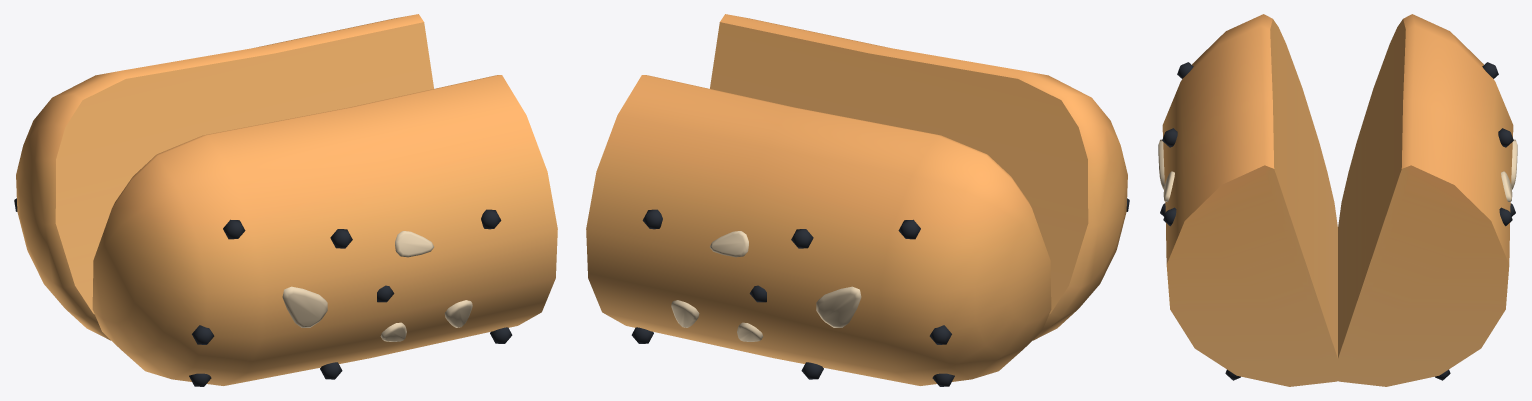
The model's file is HotDog_bun_with_seeds_half.fbx.
The picture shows the model from 3 angles, left to right: view 1: azimuth 30°, elevation 25°; view 2: azimuth 150°, elevation 25°; view 3: azimuth 270°, elevation 25°; orthographic projection. The views are drawn at different scales.
Parts seen in each view (by area): view 1: HotDog_bun_with_seeds_half; view 2: HotDog_bun_with_seeds_half; view 3: HotDog_bun_with_seeds_half.
Boxes of the visible parts, x1=… form: HotDog_bun_with_seeds_half: x1=14, y1=14, x2=557, y2=386; HotDog_bun_with_seeds_half: x1=586, y1=14, x2=1129, y2=386; HotDog_bun_with_seeds_half: x1=1158, y1=14, x2=1517, y2=386.
Bounding box in the file's own units: 76.52 × 69.2 × 49.72.
